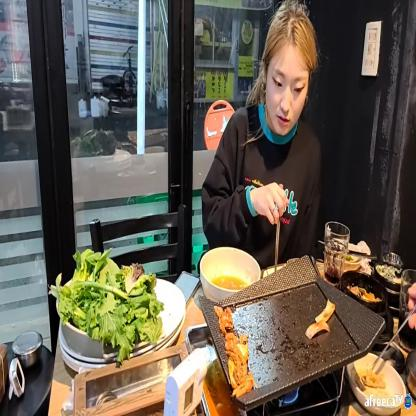streamer: (201, 0, 320, 265)
